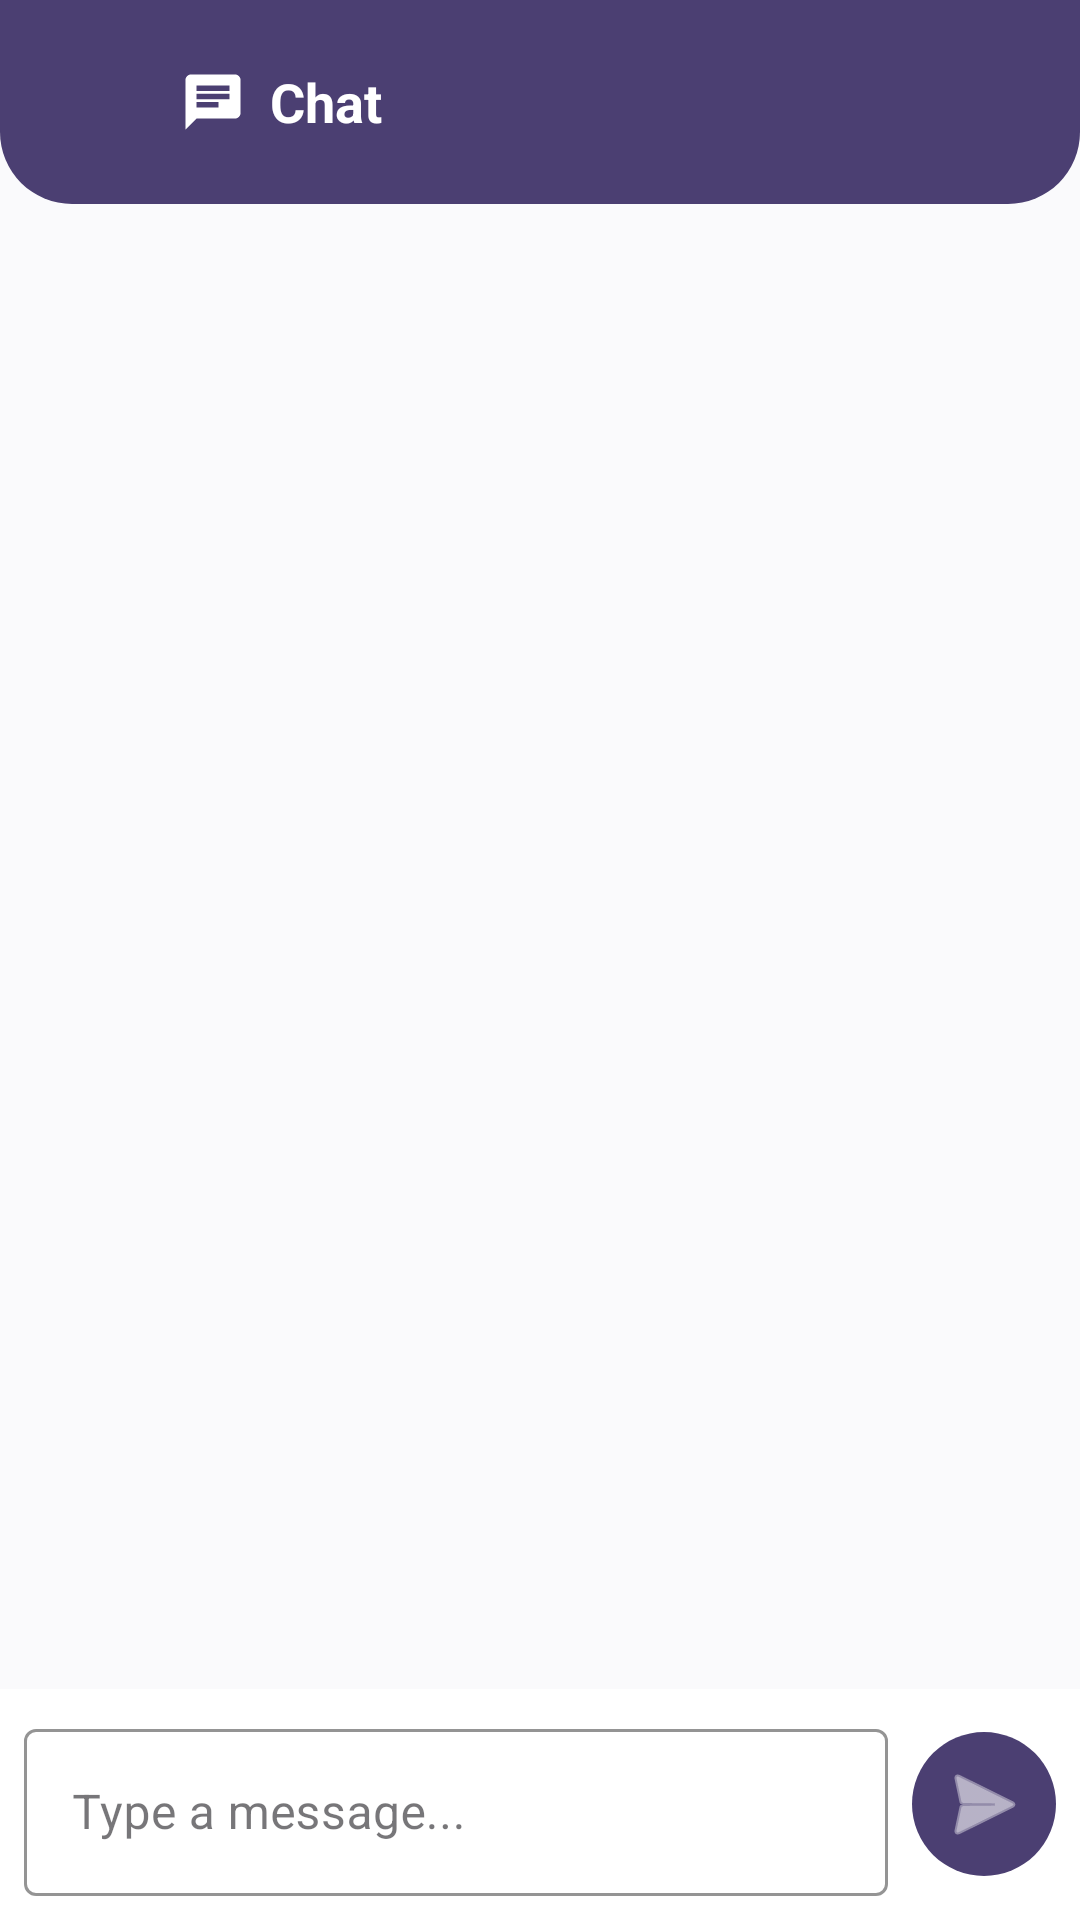

Where to tap for icons on this 1080w x 1920h app screen, as [x,y]:
send: [984,1804]
